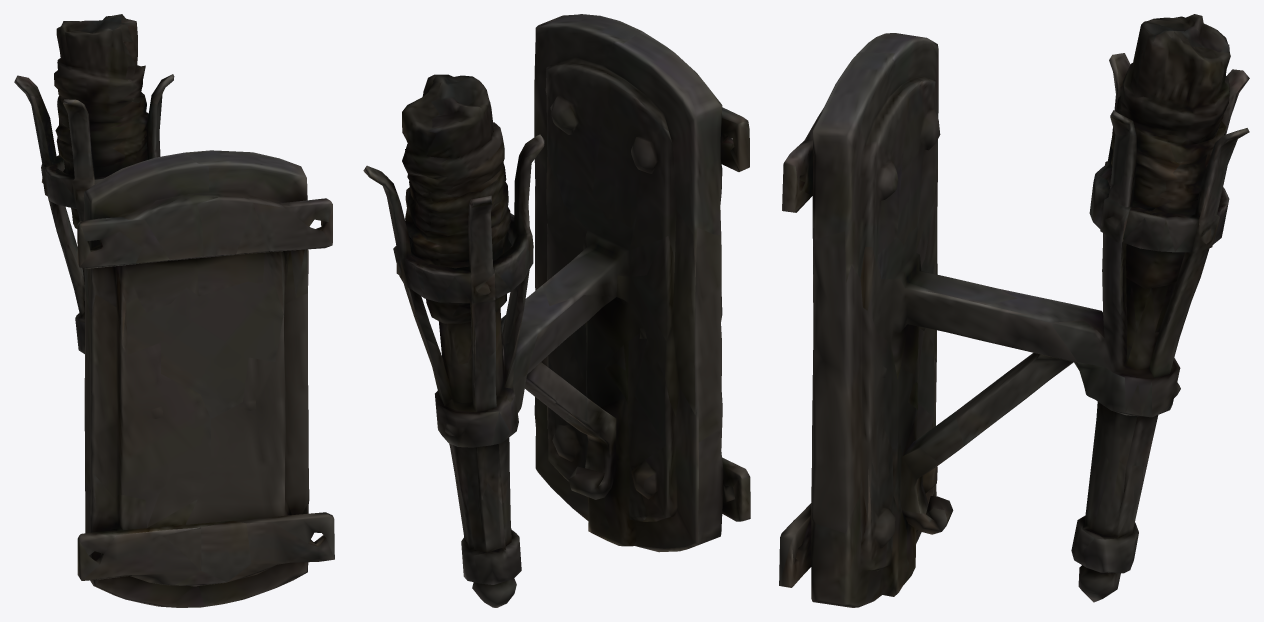
The model's file is wall-torch-sconce.glb.
3 renders of one model, left to right at view 1: azimuth 30°, elevation 25°; view 2: azimuth 150°, elevation 25°; view 3: azimuth 270°, elevation 25°, orthographic. The views are drawn at different scales.
Visible parts, largest first — view 1: tripo_node_4a0c1510-f503-41da-a78d-9bc39fe06d06; view 2: tripo_node_4a0c1510-f503-41da-a78d-9bc39fe06d06; view 3: tripo_node_4a0c1510-f503-41da-a78d-9bc39fe06d06.
Part boxes in pixels (bbox=[...]): tripo_node_4a0c1510-f503-41da-a78d-9bc39fe06d06: bbox=[14, 14, 334, 607]; tripo_node_4a0c1510-f503-41da-a78d-9bc39fe06d06: bbox=[363, 14, 750, 607]; tripo_node_4a0c1510-f503-41da-a78d-9bc39fe06d06: bbox=[779, 14, 1249, 607].
Bounding box in the file's own units: 0.4573 × 1 × 0.7312.
Materials: 1 (1 with a texture image).
